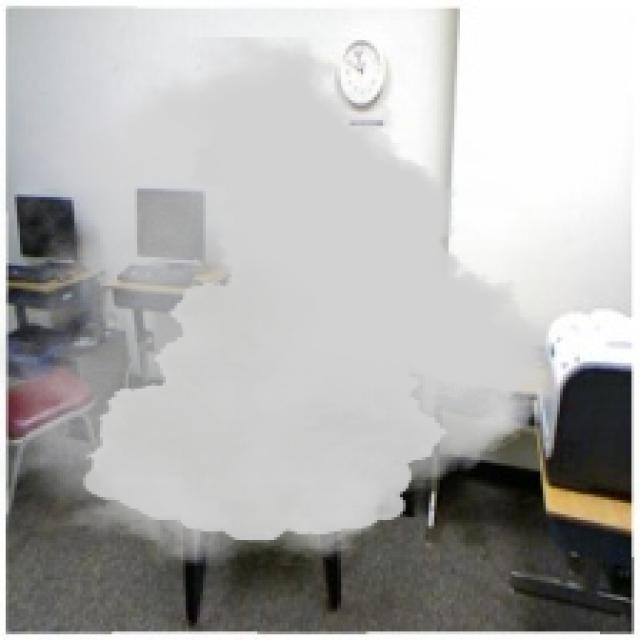smoke: (0, 37, 552, 566)
